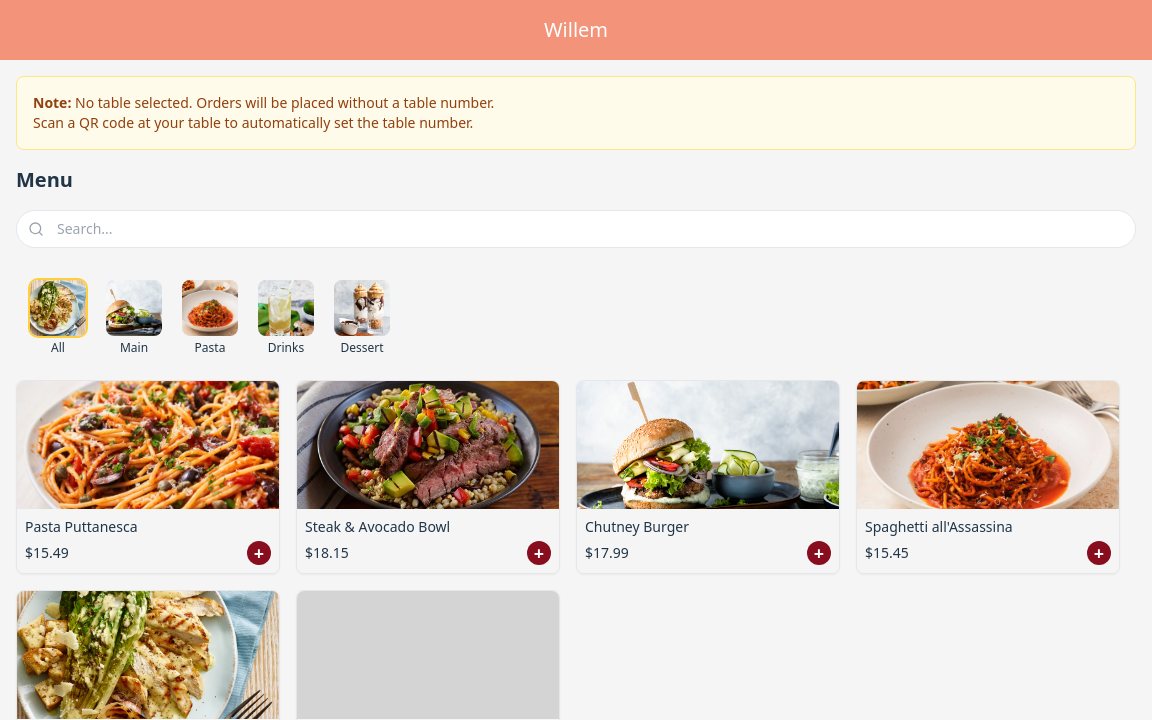
Scenario: Shopping Cart › allows removing items from cart
Note: Add an item to cart
Click the heading "Pasta Puttanesca" at (82, 527), box [25,517,138,536]
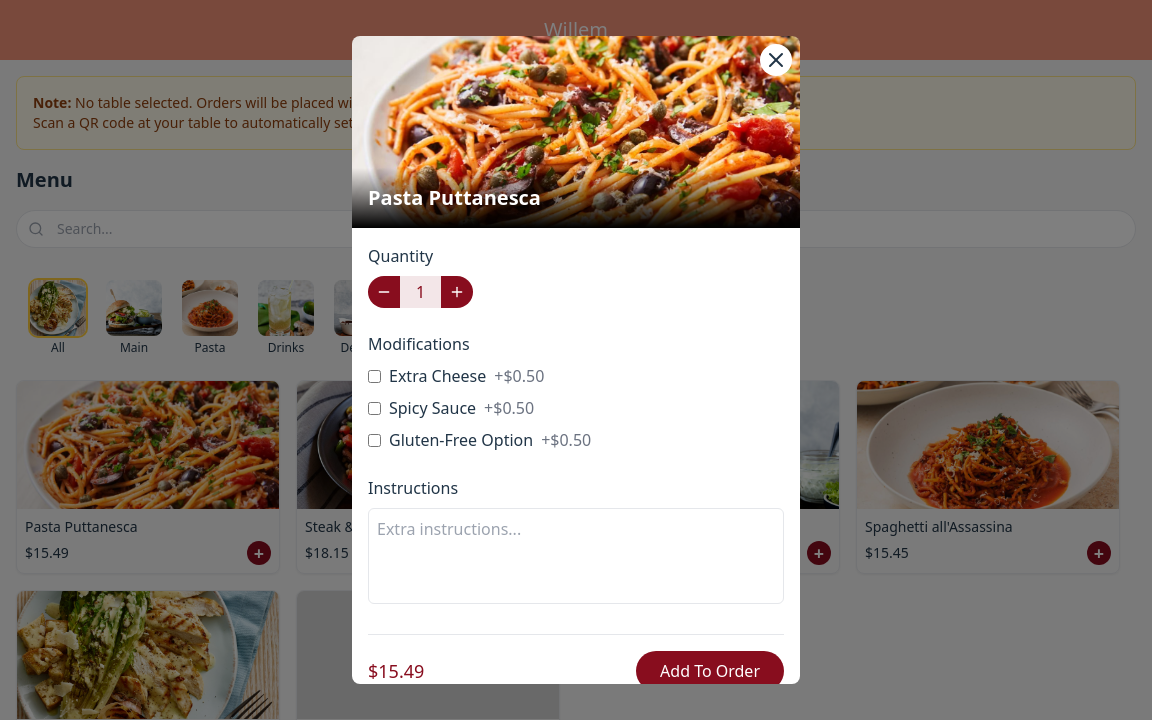
Click the button with test id "add-to-order-button" at (710, 671), box [636,651,784,691]
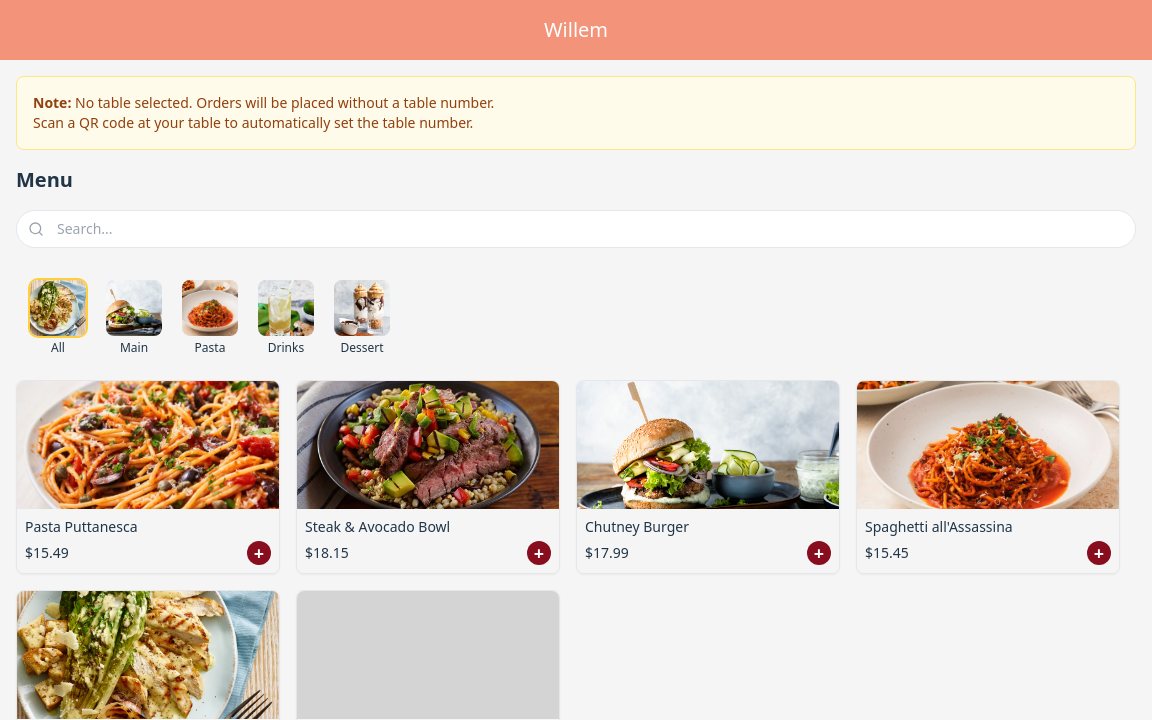
Scroll
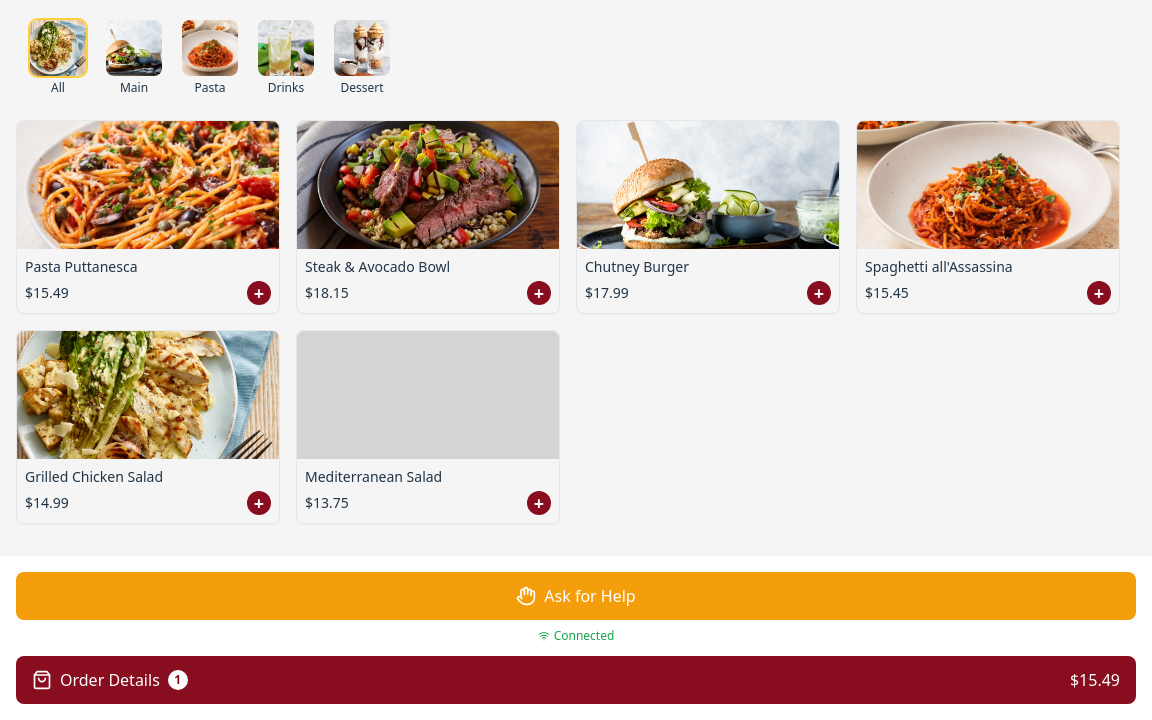
Note: Go to cart page
Click the button with test id "cart-summary-button" at (110, 680), box [16,656,1136,704]
(page scrolled)
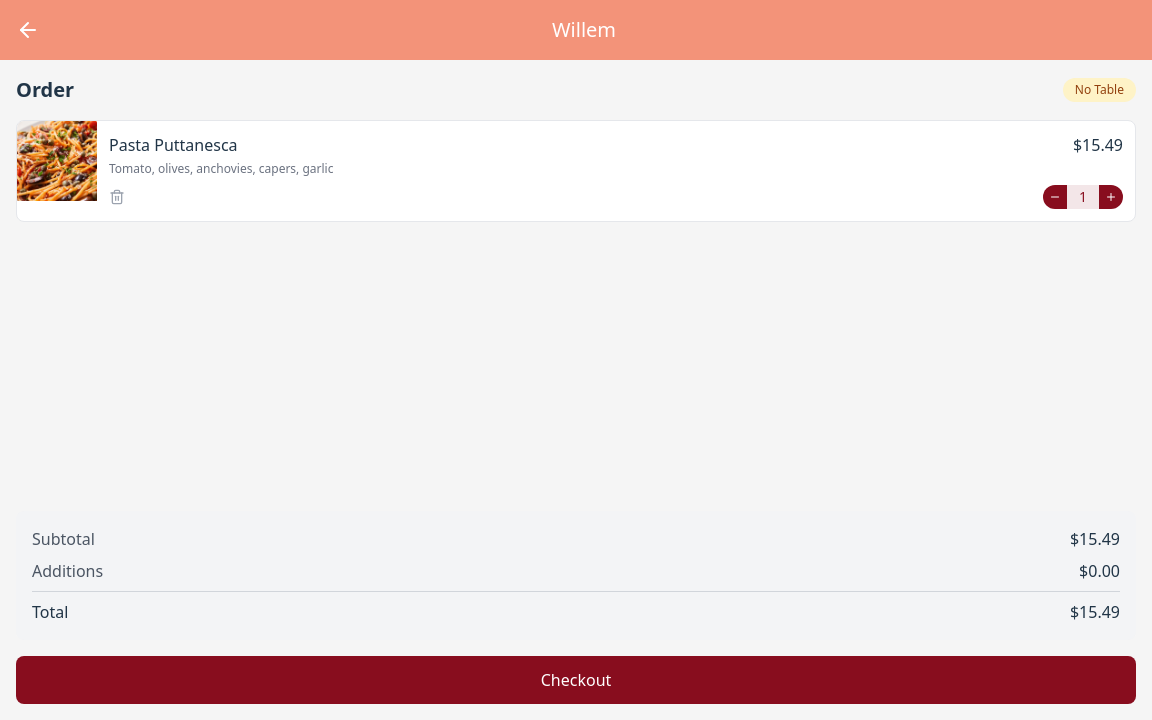
Note: Remove the item
Click the button named "Remove item" at (117, 197), box [109,189,125,205]
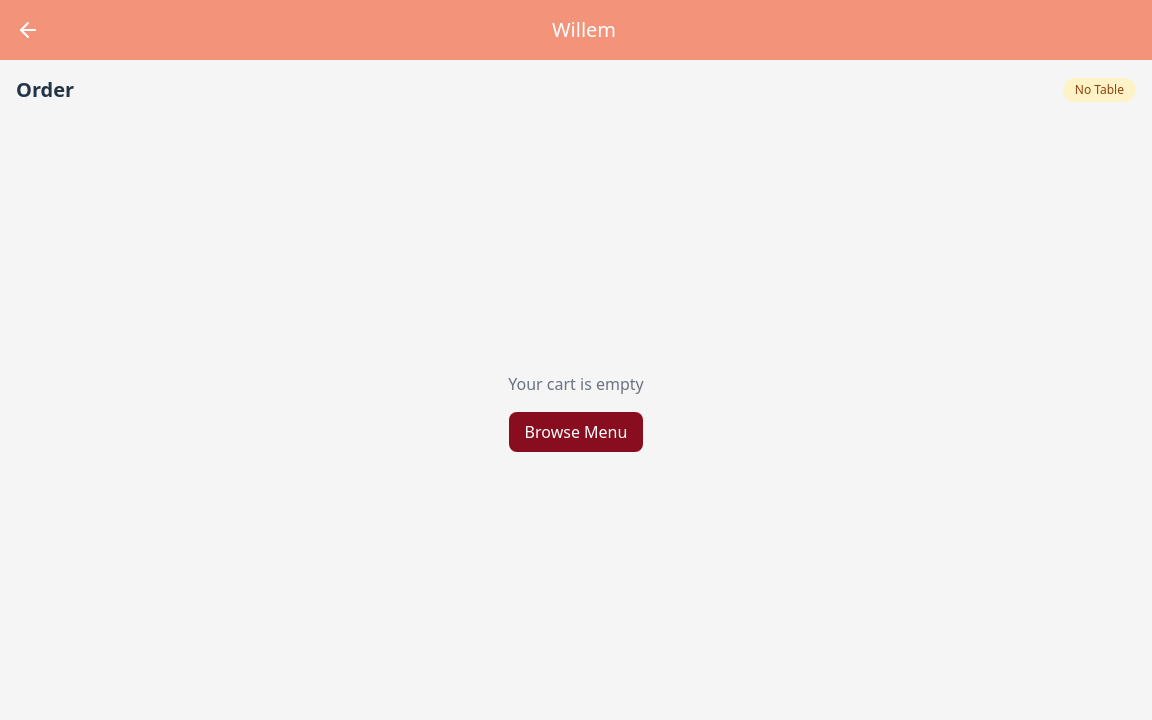
Expected: the text "Your cart is empty" is shown, [508,372,644,396]
